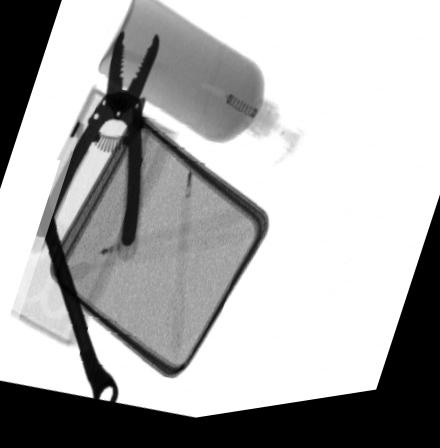Pliers: (26, 32, 161, 263)
Wrench: (23, 160, 119, 404)
